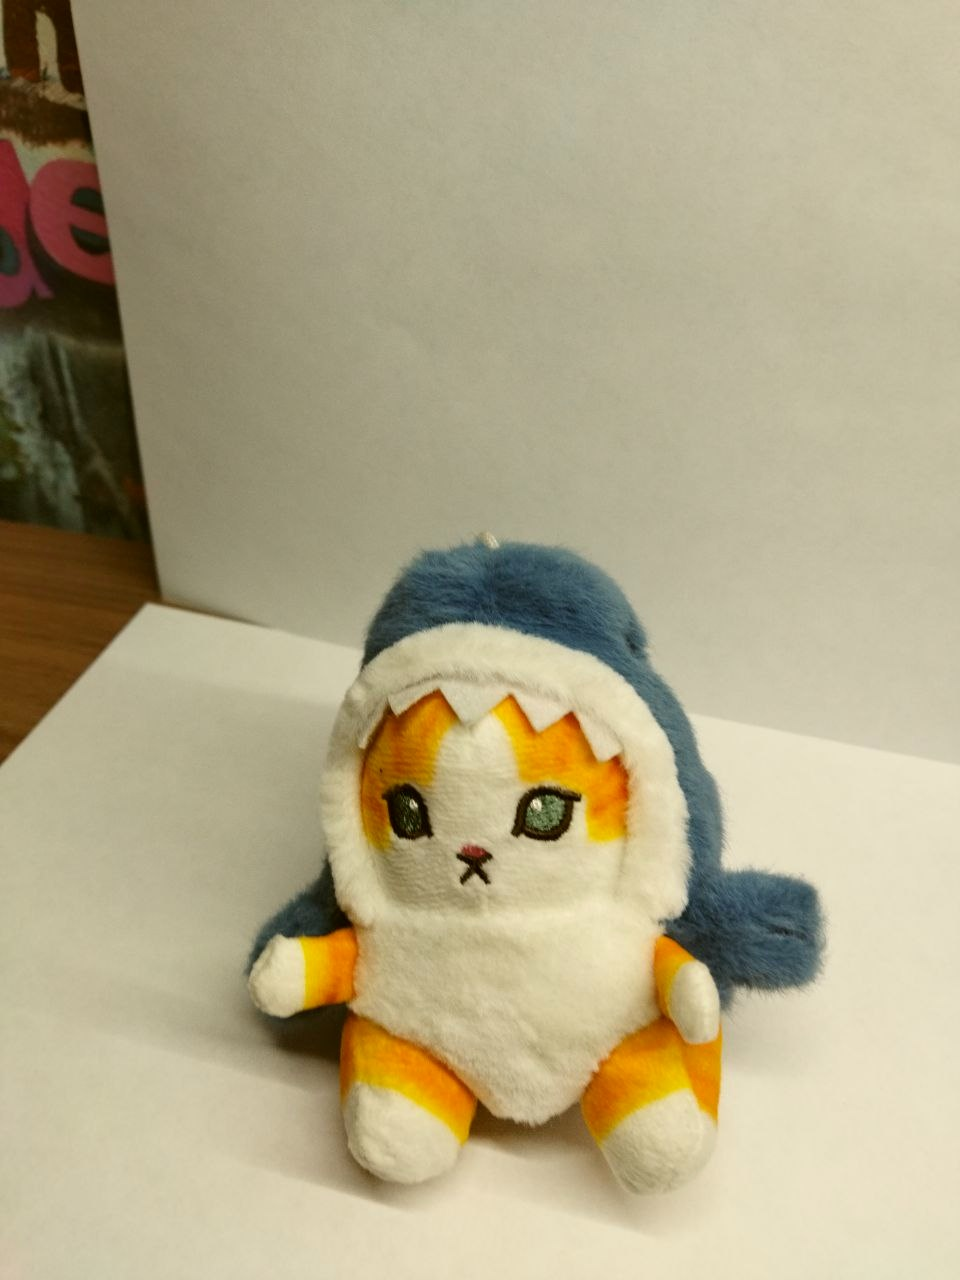Snark Cat: (248, 531, 832, 1199)
